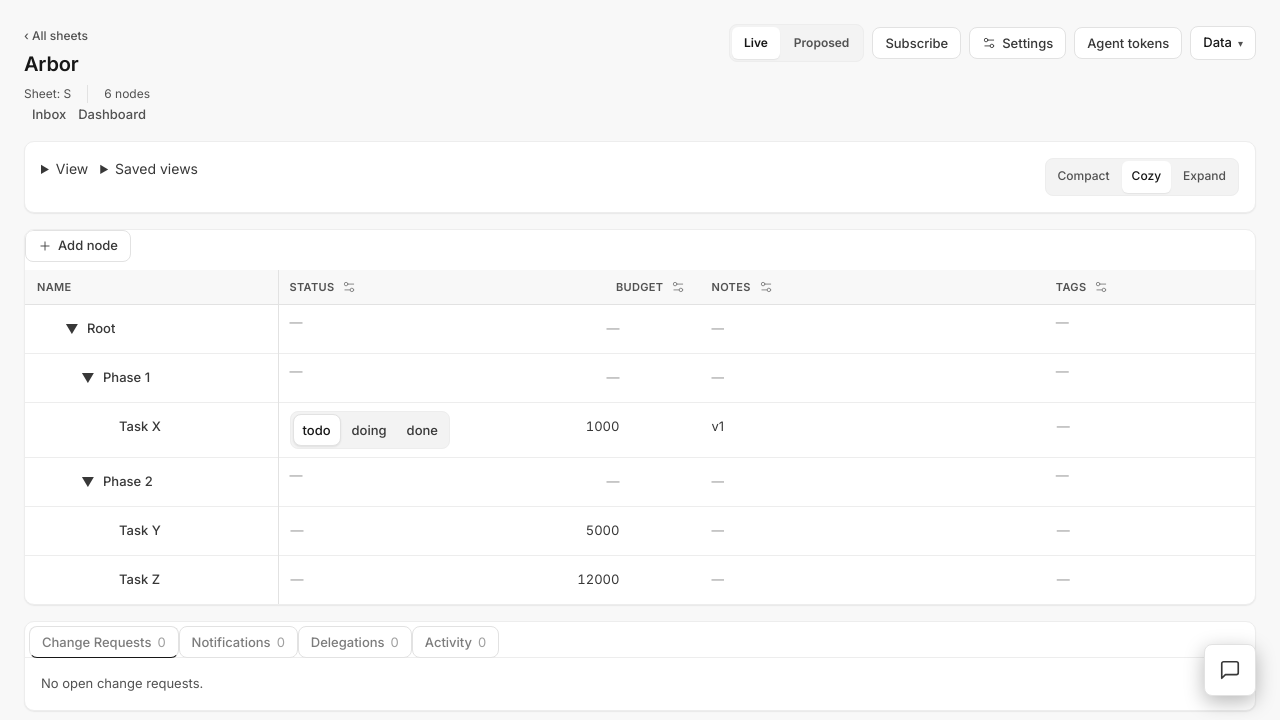
Test: AgentTokensModal — the viewer's own agent credentials › revoke needs the second (confirm) click
The image size is (1280, 720).
Expected: the table with test id "tree-table" is shown, [25,270,1255,604]
What coordinates should you click on to do the following:
click the button with test id "agent-tokens-button"
I would click on:
 (1128, 43)
Its box is [1074,27,1182,59].
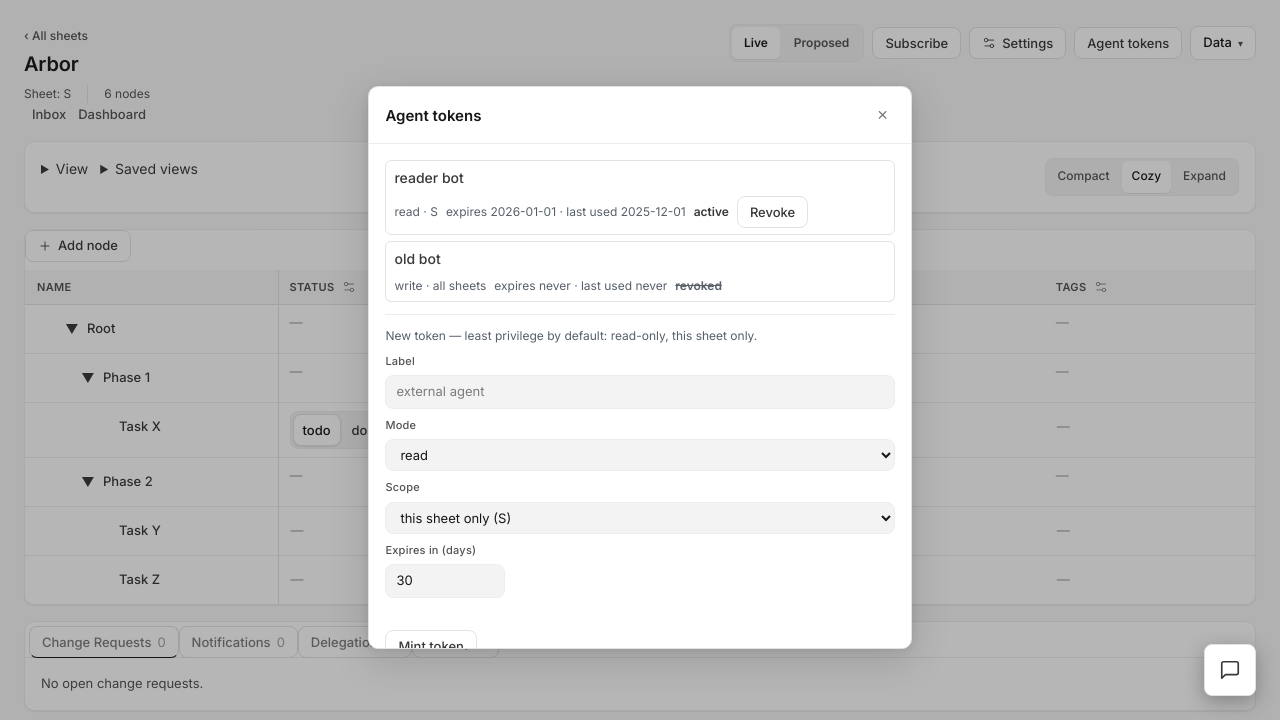
Expected: the list with test id "agent-token-list" is shown, [385,160,894,302]
What coordinates should you click on to do the following:
click the button with test id "agent-token-revoke-AT-1"
I would click on:
 (773, 212)
Its box is [737,196,808,228].
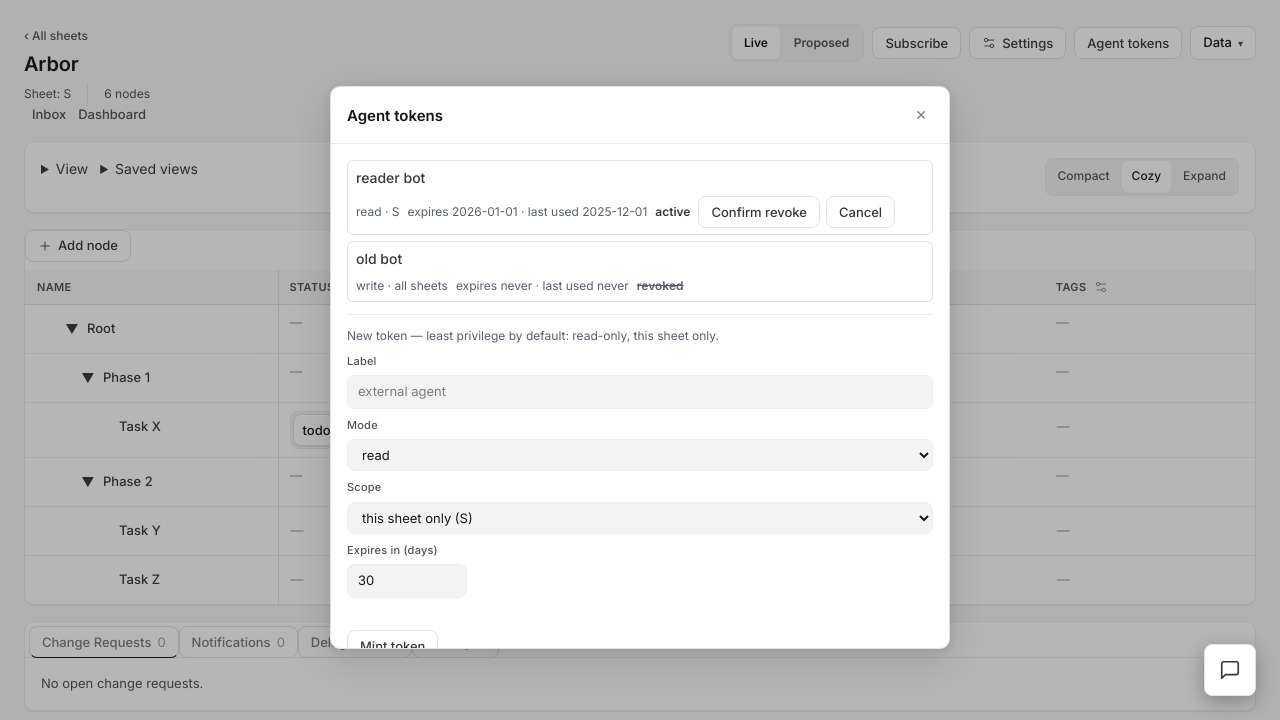
What coordinates should you click on to do the following:
click the button with test id "agent-token-revoke-confirm-AT-1"
I would click on:
 (759, 212)
Its box is [698,196,820,228].
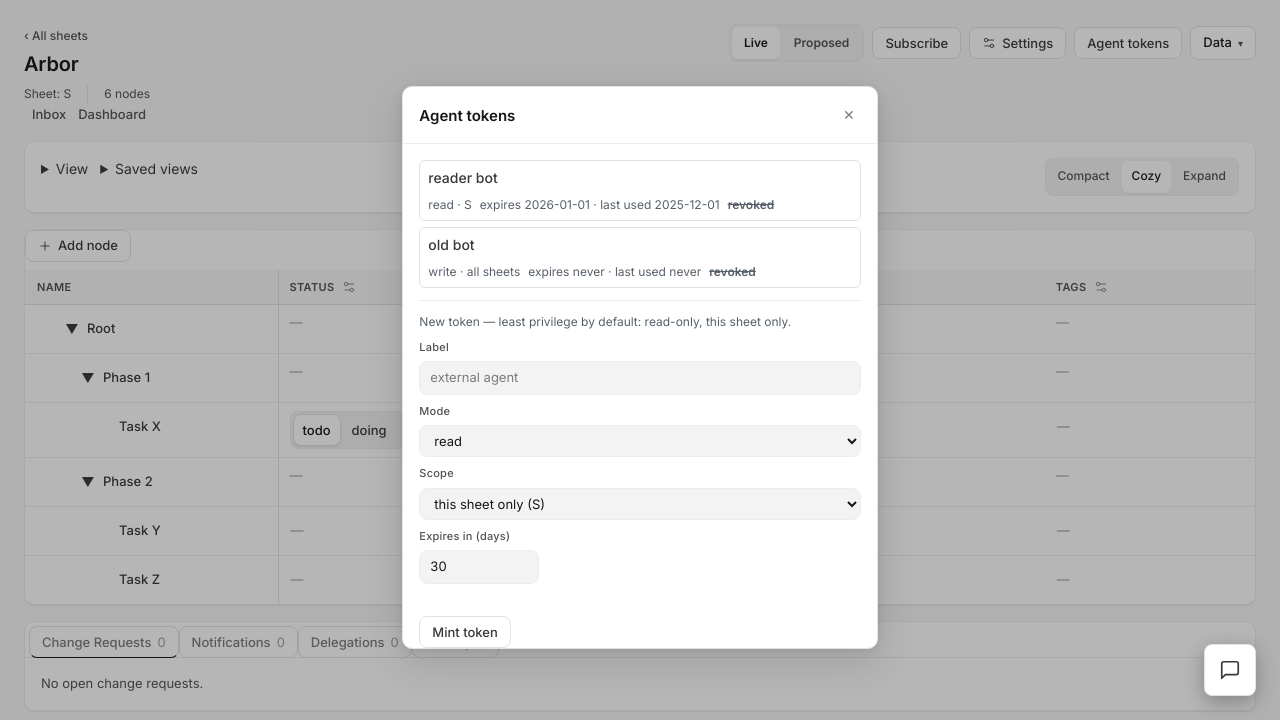
Expected: the text with test id "agent-token-state-AT-1" reads "revoked", [728,197,774,212]
